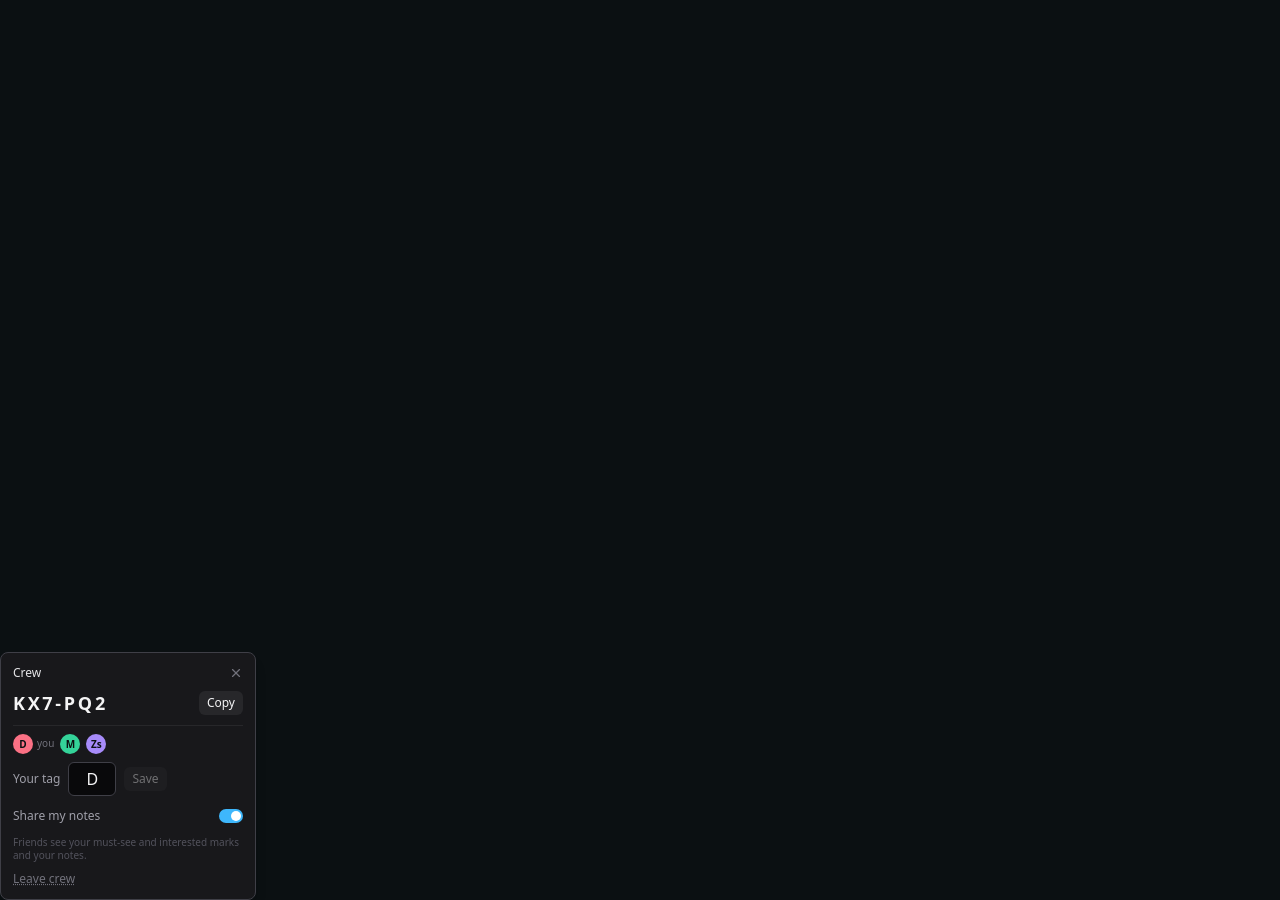
CrewPanel, in a crew › copies the code
(page scrolled)
Click the button "Copy" at (221, 703), box [199, 691, 243, 715]
(page scrolled)
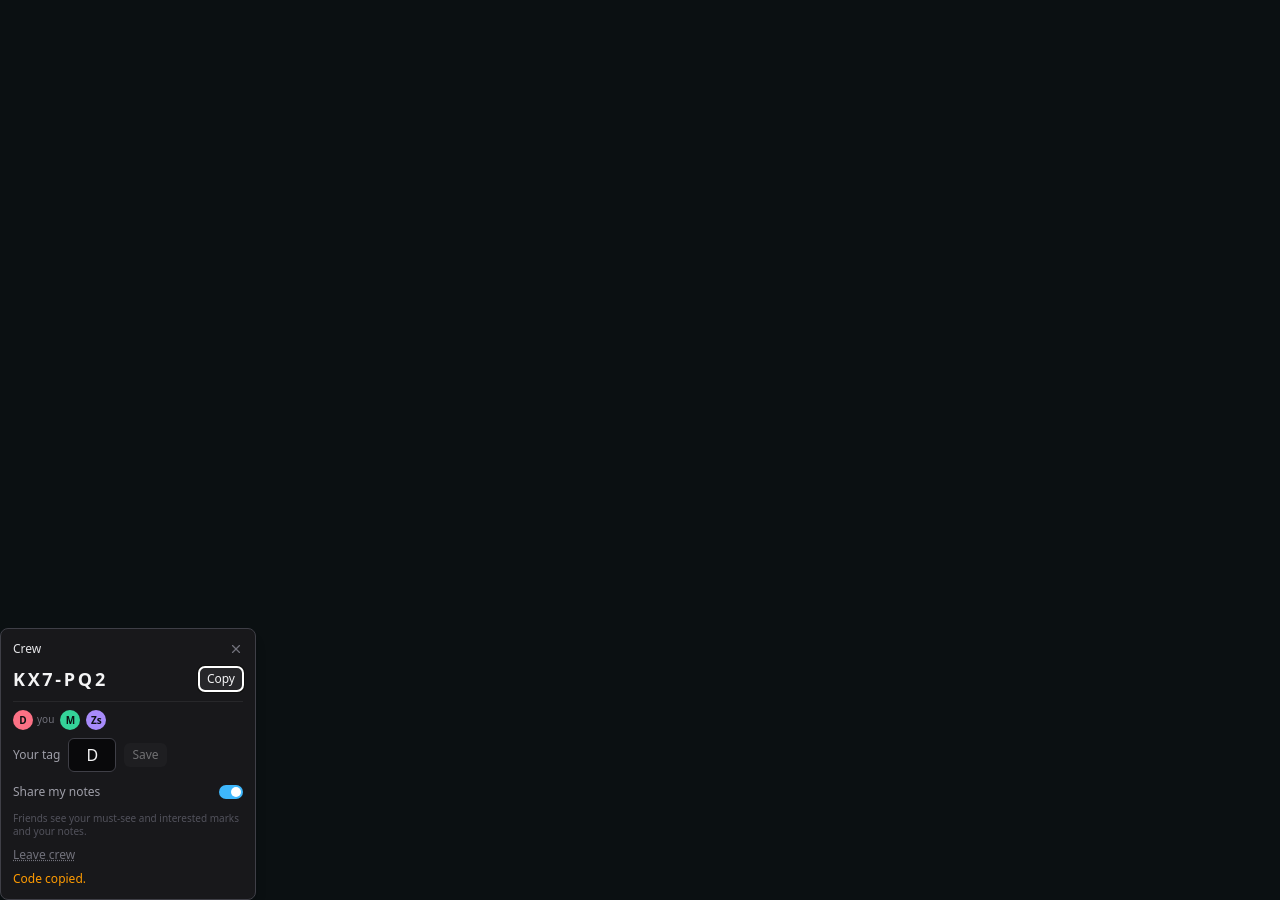
Now the message reads "Code copied.", box [13, 870, 86, 887]
